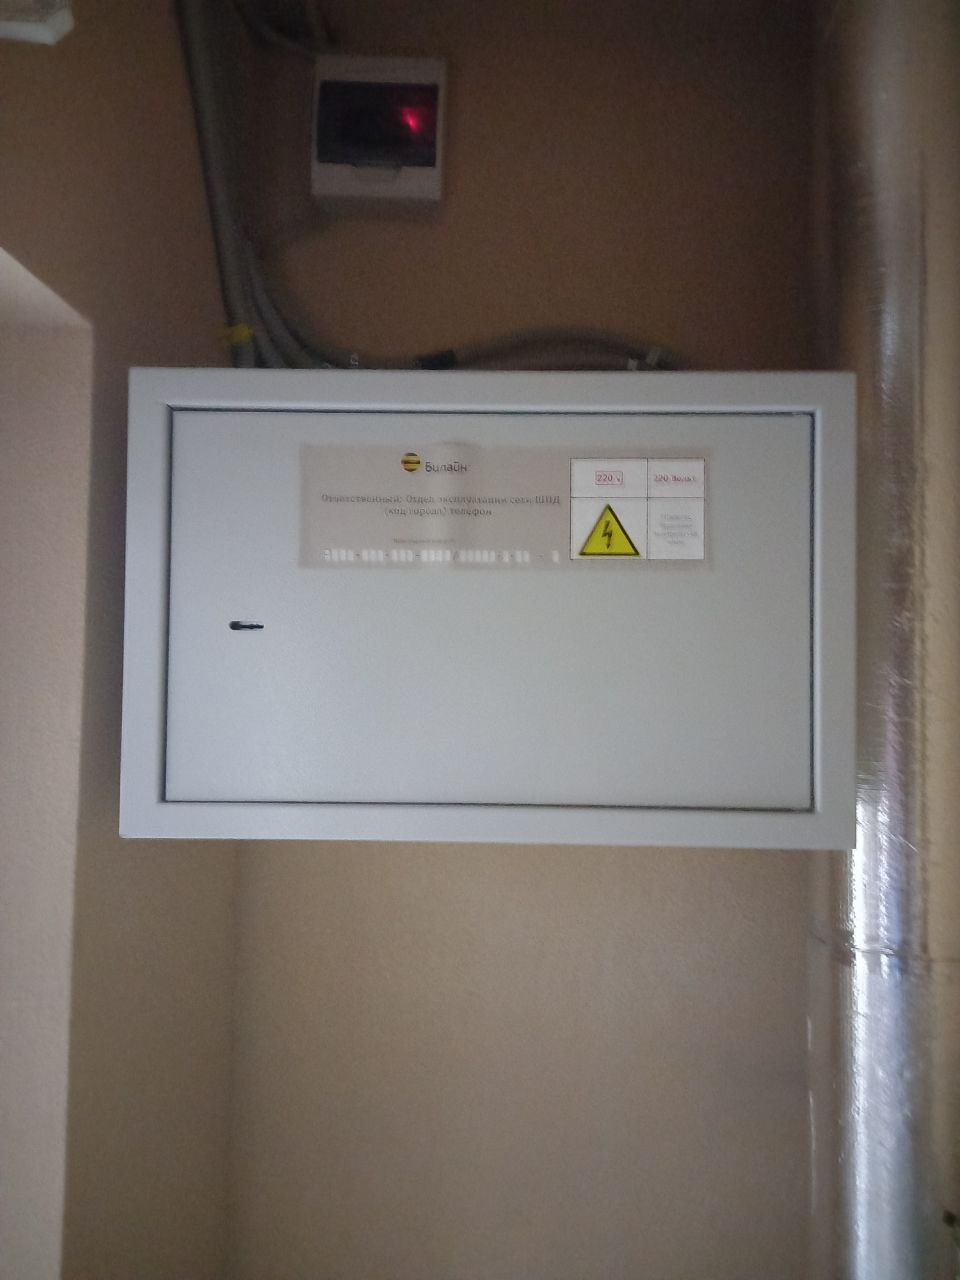shta-7m: (102, 341, 878, 871)
